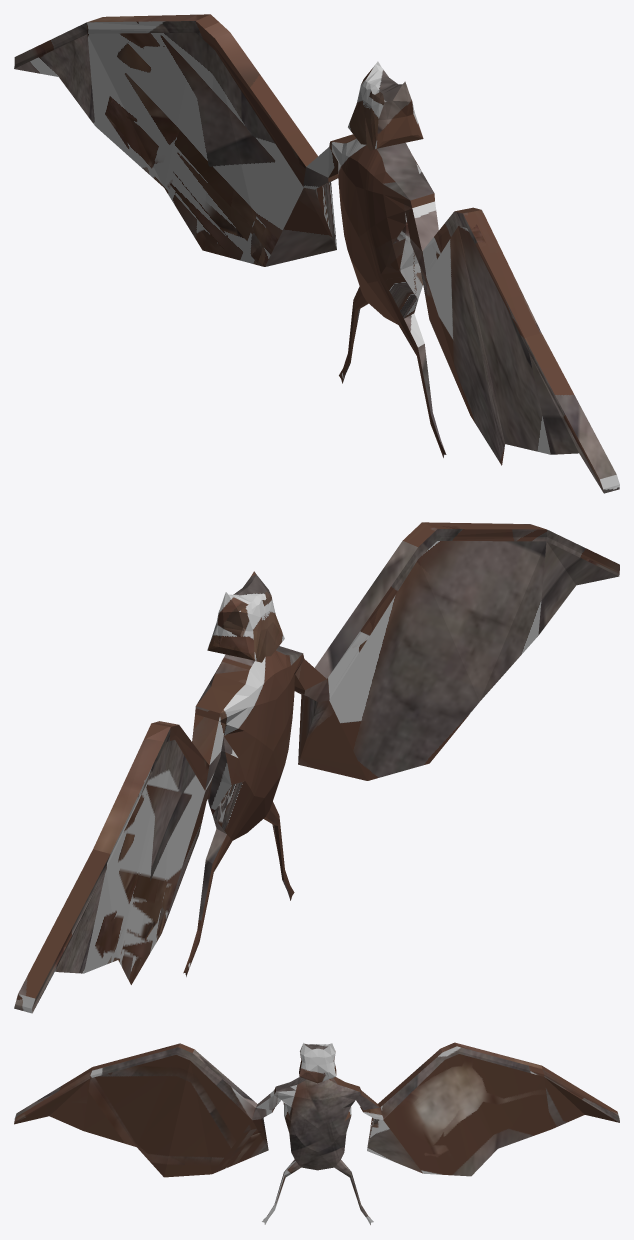
File: Enemigo13.obj
3 renders of one model, top to bottom at view 1: azimuth 30°, elevation 25°; view 2: azimuth 150°, elevation 25°; view 3: azimuth 270°, elevation 25°, orthographic. The views are drawn at different scales.
Visible parts, largest first — view 1: Plano; view 2: Plano; view 3: Plano.
Boxes of the visible parts, x1,y1,x2,y2 form: Plano: (14,14,619,493); Plano: (14,522,619,1013); Plano: (14,1042,619,1224).
Bounding box in the file's own units: 0.2511 × 0.7598 × 2.29.
1 material, 1 textured.
